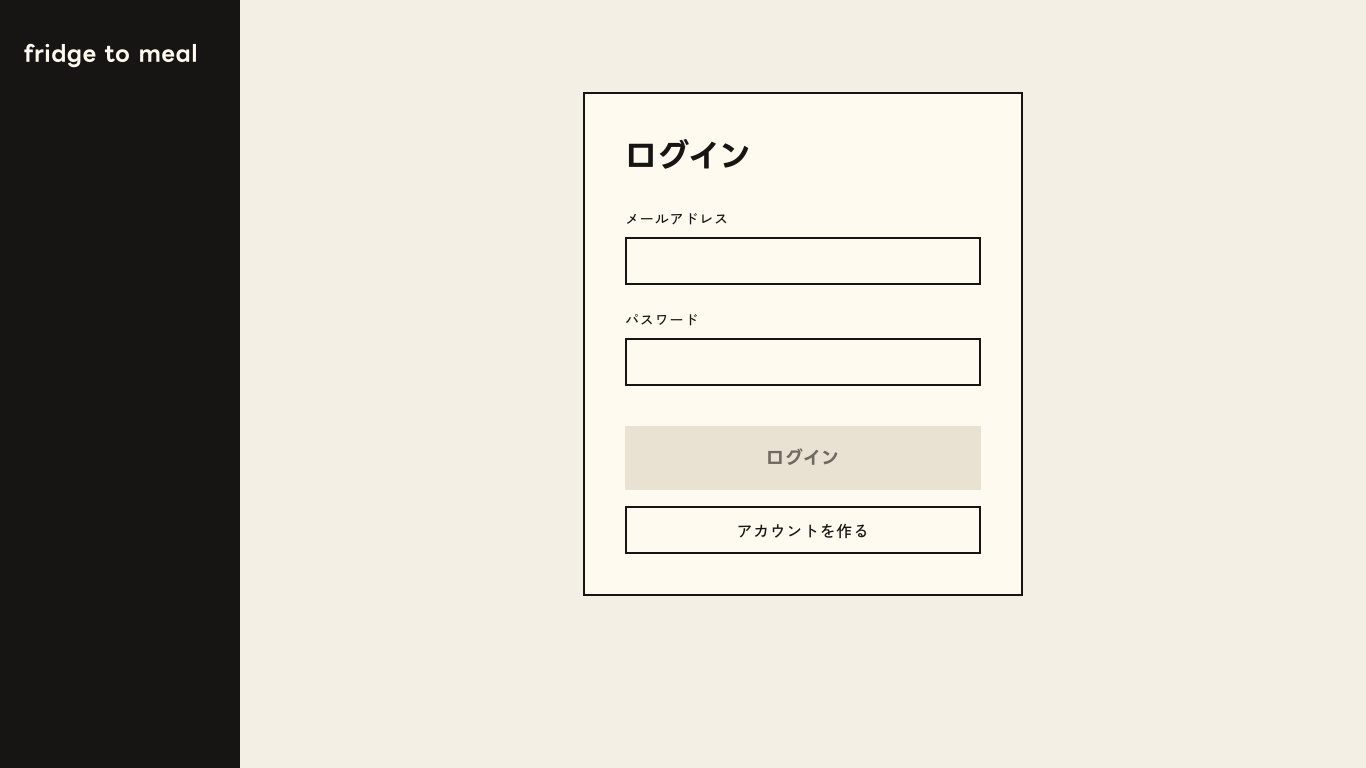
Test case: ログインの画面 SignInForm › 断りの案内に添える記号 ! は読み上げに出ない
In the field: (803, 261) [625,237,981,285], type "user@example.com"
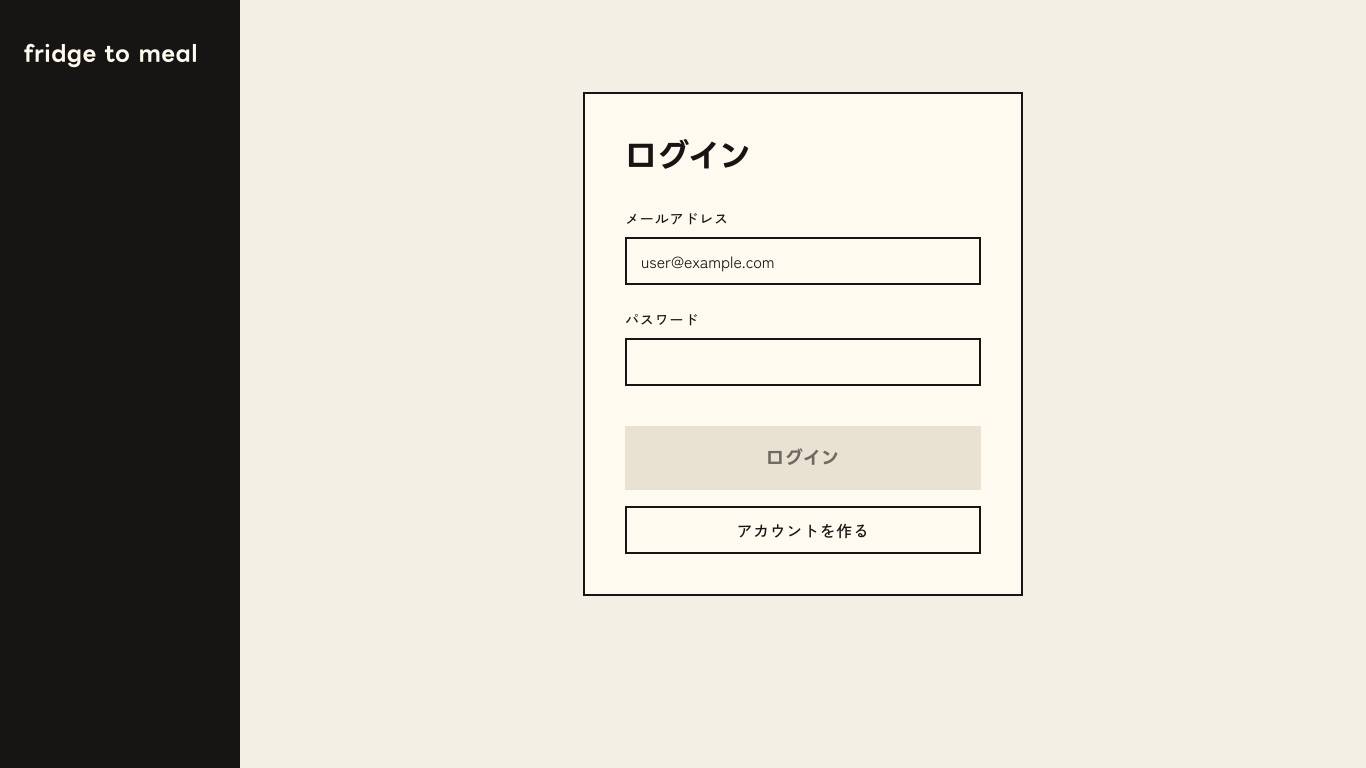
In the password field labelled "パスワード": (803, 362) [625,338,981,386], type "correct-horse"
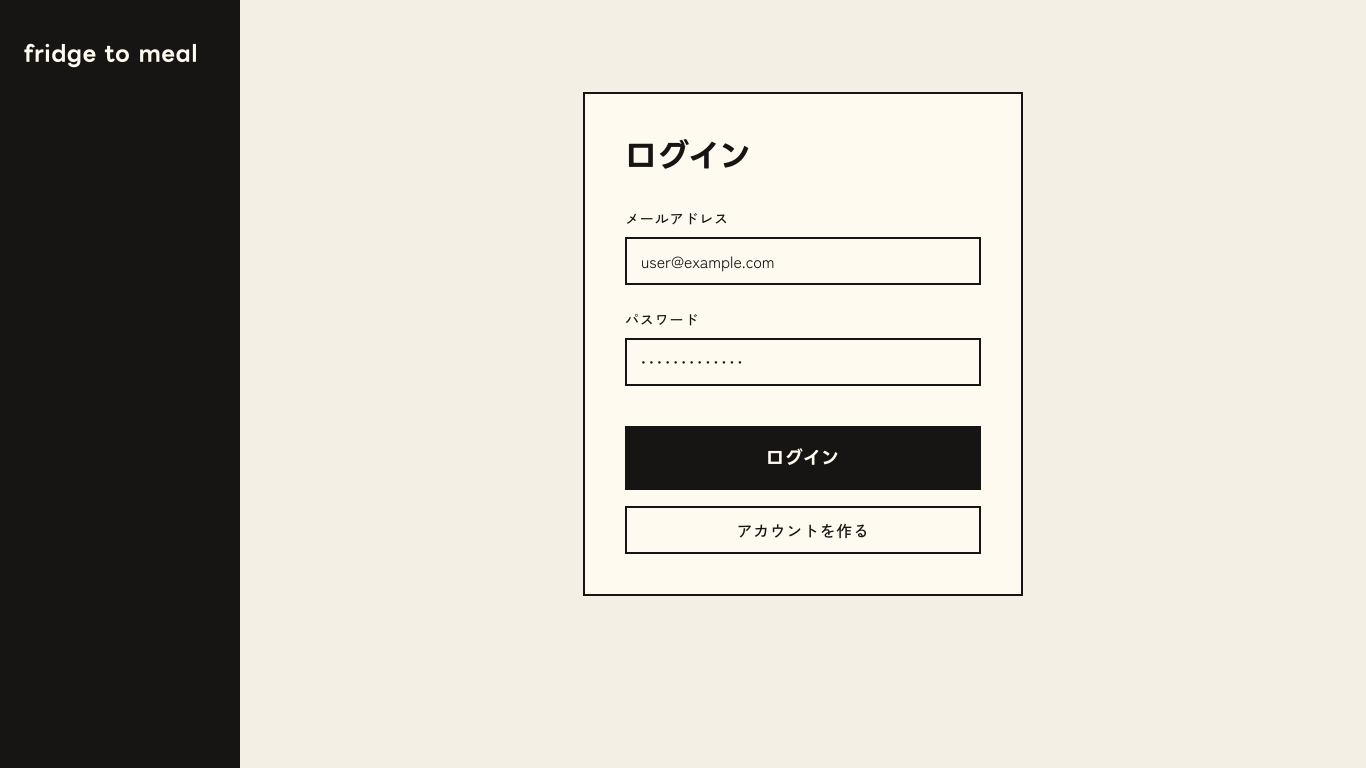
Click the button "ログイン": (803, 458) [625,426,981,490]
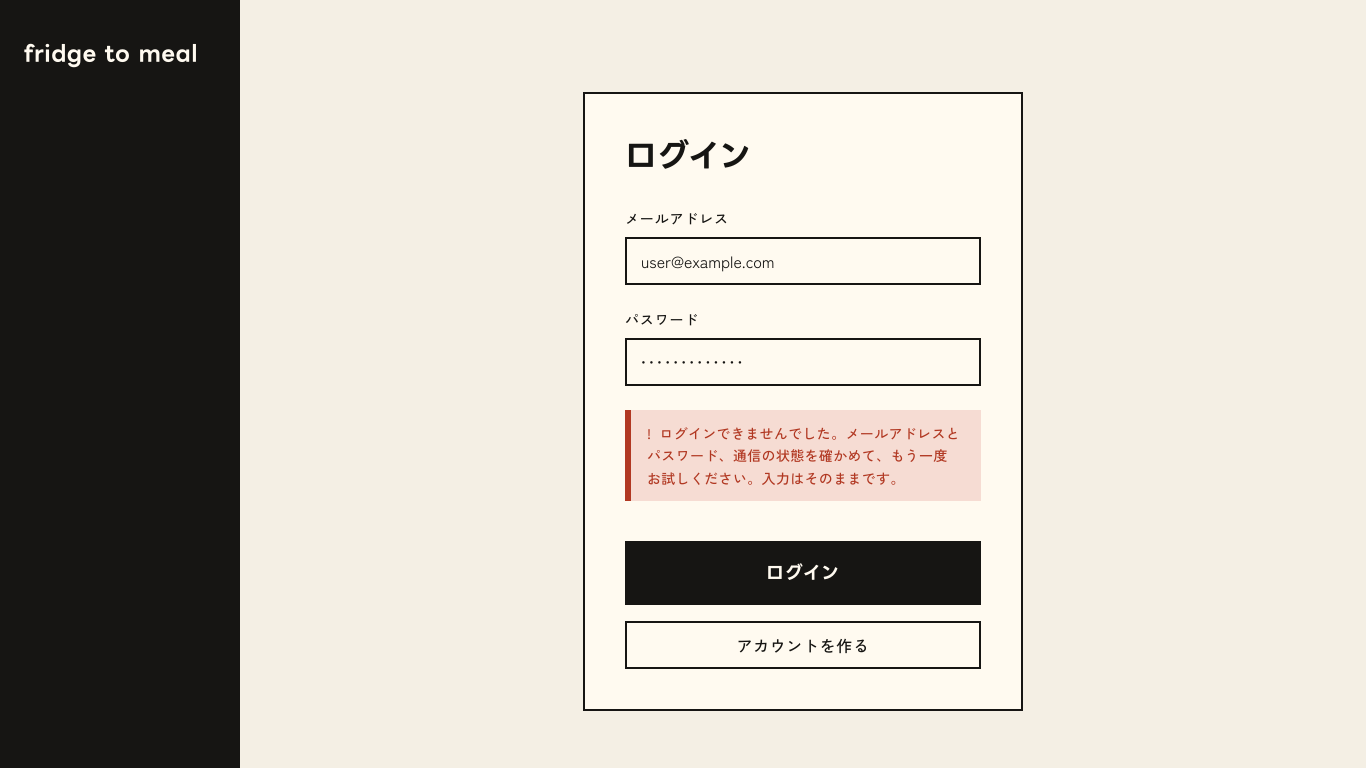
expect the text "!" is shown: met, box [647,423,651,443]
